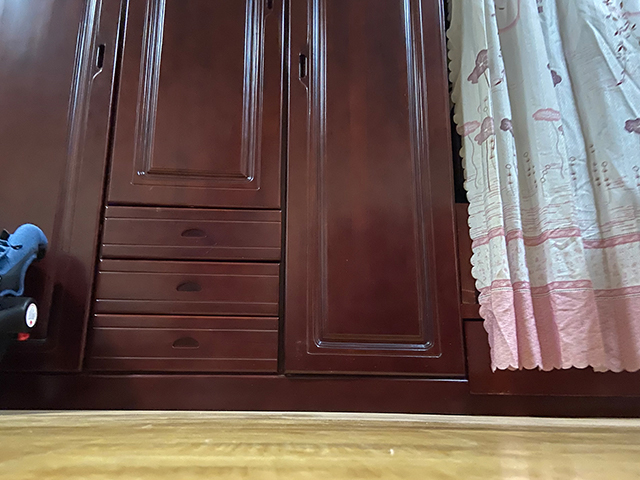cabinet: (1, 1, 459, 411)
curtain: (452, 1, 640, 373)
